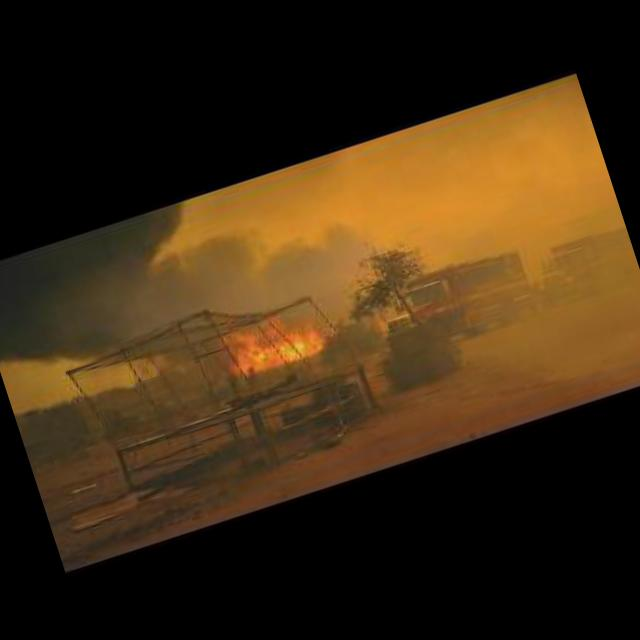fire: (209, 294, 338, 386)
smoke: (0, 147, 382, 407)
